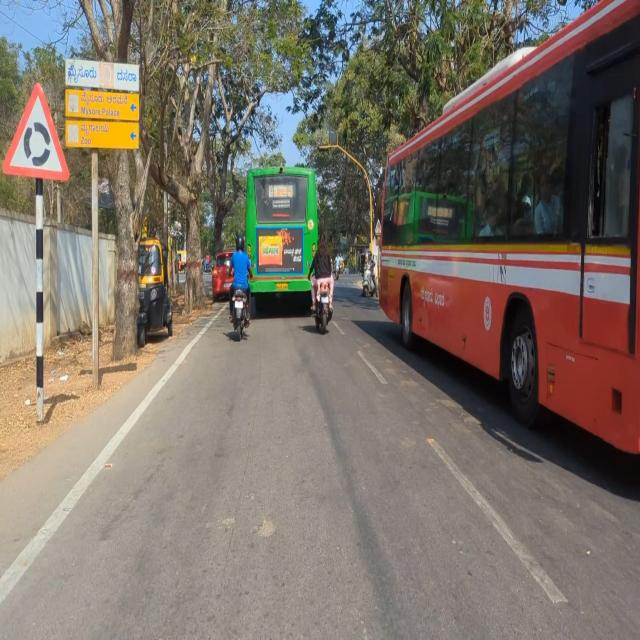bien_cam: (0, 76, 74, 188)
